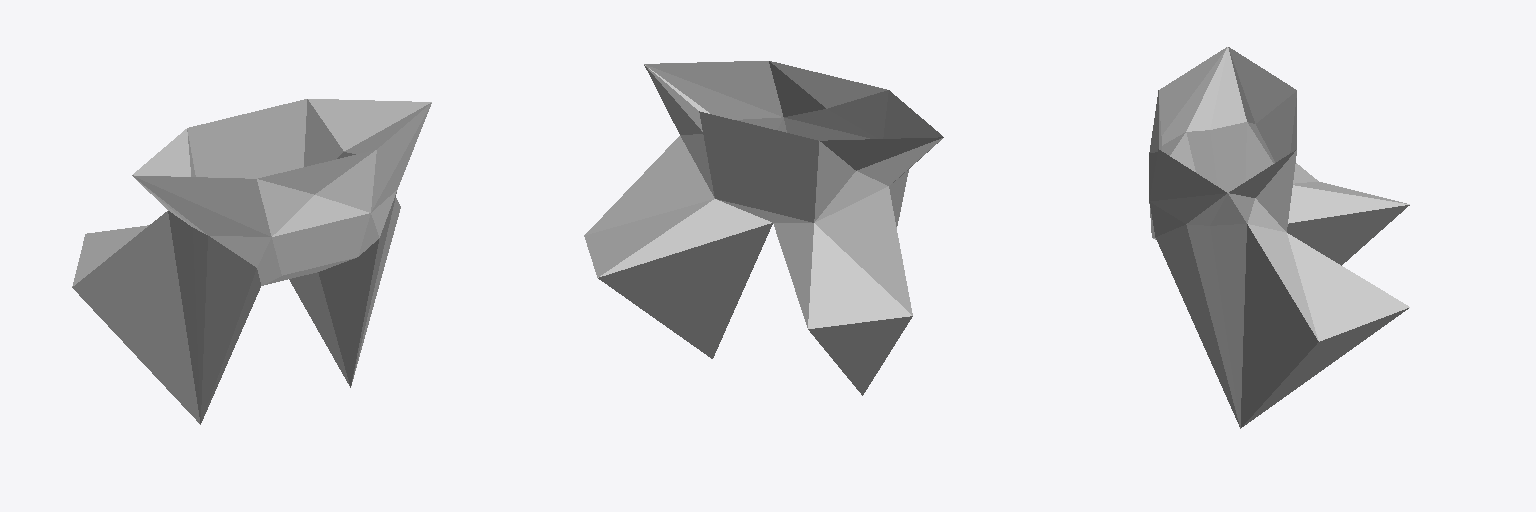
Rendered from iron_arm_gem2.obj.
3 renders of one model, left to right at view 1: azimuth 30°, elevation 25°; view 2: azimuth 150°, elevation 25°; view 3: azimuth 270°, elevation 25°, orthographic.
Visible parts, largest first — view 1: IronArmGem2; view 2: IronArmGem2; view 3: IronArmGem2.
Boxes of the visible parts, <box> form: IronArmGem2: <box>72,99,431,424</box>; IronArmGem2: <box>584,61,943,395</box>; IronArmGem2: <box>1149,47,1409,428</box>.
Bounding box in the file's own units: 2.19 × 1.73 × 1.51.